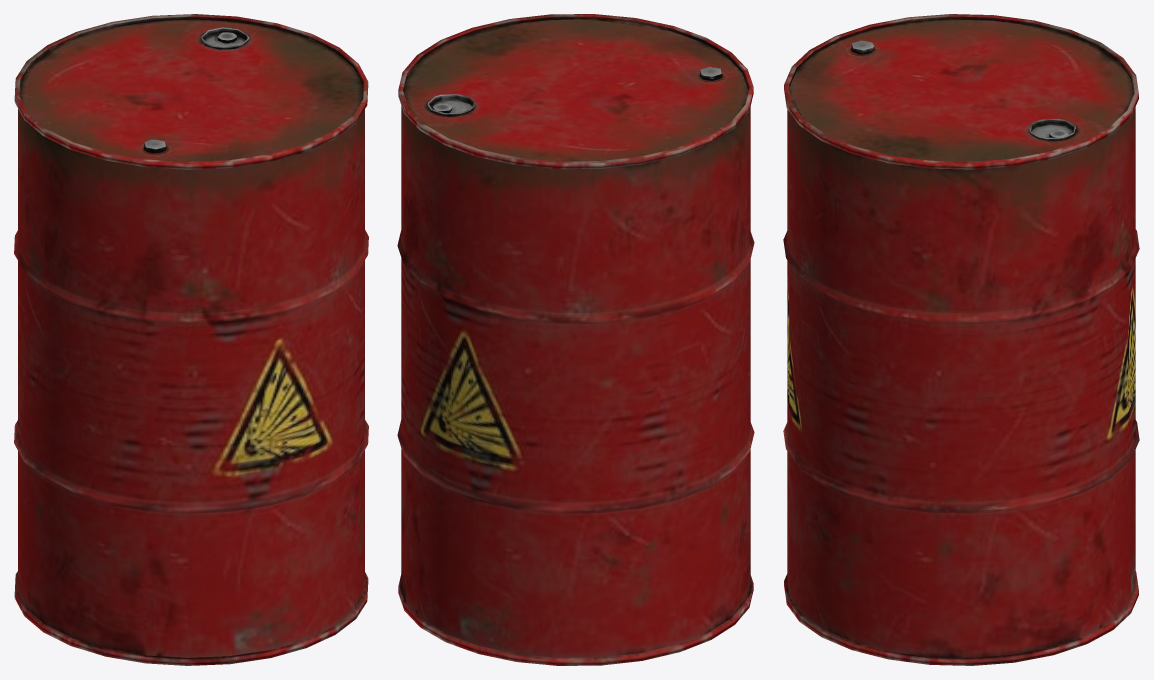
File: fuel_drum.glb
3 renders of one model, left to right at view 1: azimuth 30°, elevation 25°; view 2: azimuth 150°, elevation 25°; view 3: azimuth 270°, elevation 25°, orthographic.
Visible parts, largest first — view 1: Barrel_01; view 2: Barrel_01; view 3: Barrel_01.
Part boxes in pixels (x1,y1,x2,y2): Barrel_01: (14,14,368,665); Barrel_01: (397,14,754,665); Barrel_01: (783,14,1139,665).
Size of the model in its own units: 0.5627 by 0.8789 by 0.5627.
Materials: 1 (1 with a texture image).
